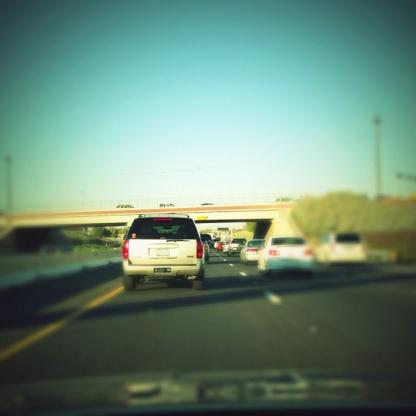Car: (121, 218, 218, 294), (215, 236, 317, 274), (317, 231, 369, 265), (203, 232, 210, 263)
